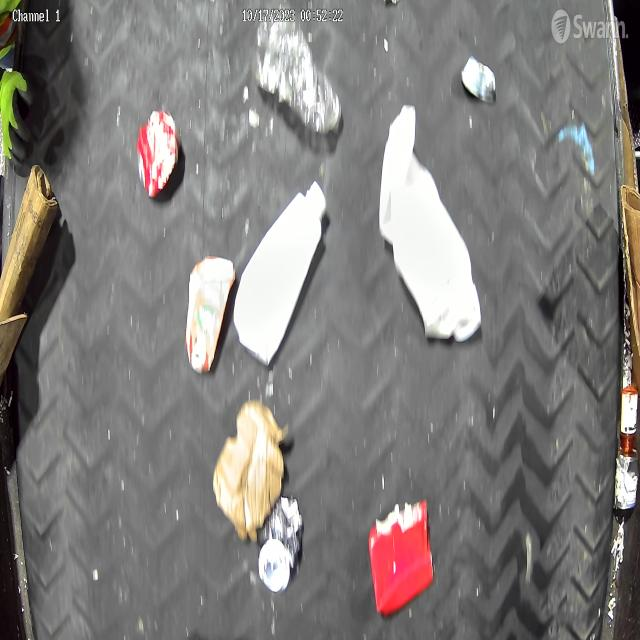can: (260, 496, 306, 594), (138, 108, 181, 200), (463, 55, 498, 109), (613, 447, 640, 510)
milk_jug: (380, 107, 482, 341)
plastic_bottle: (253, 15, 341, 140)
